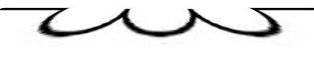inductor: (34, 0, 278, 54)
